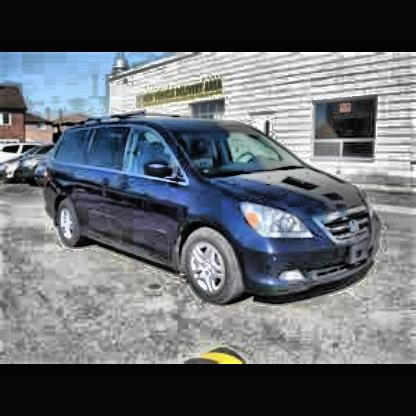Honda Odyssey Minivan 2007: (44, 113, 380, 308)
